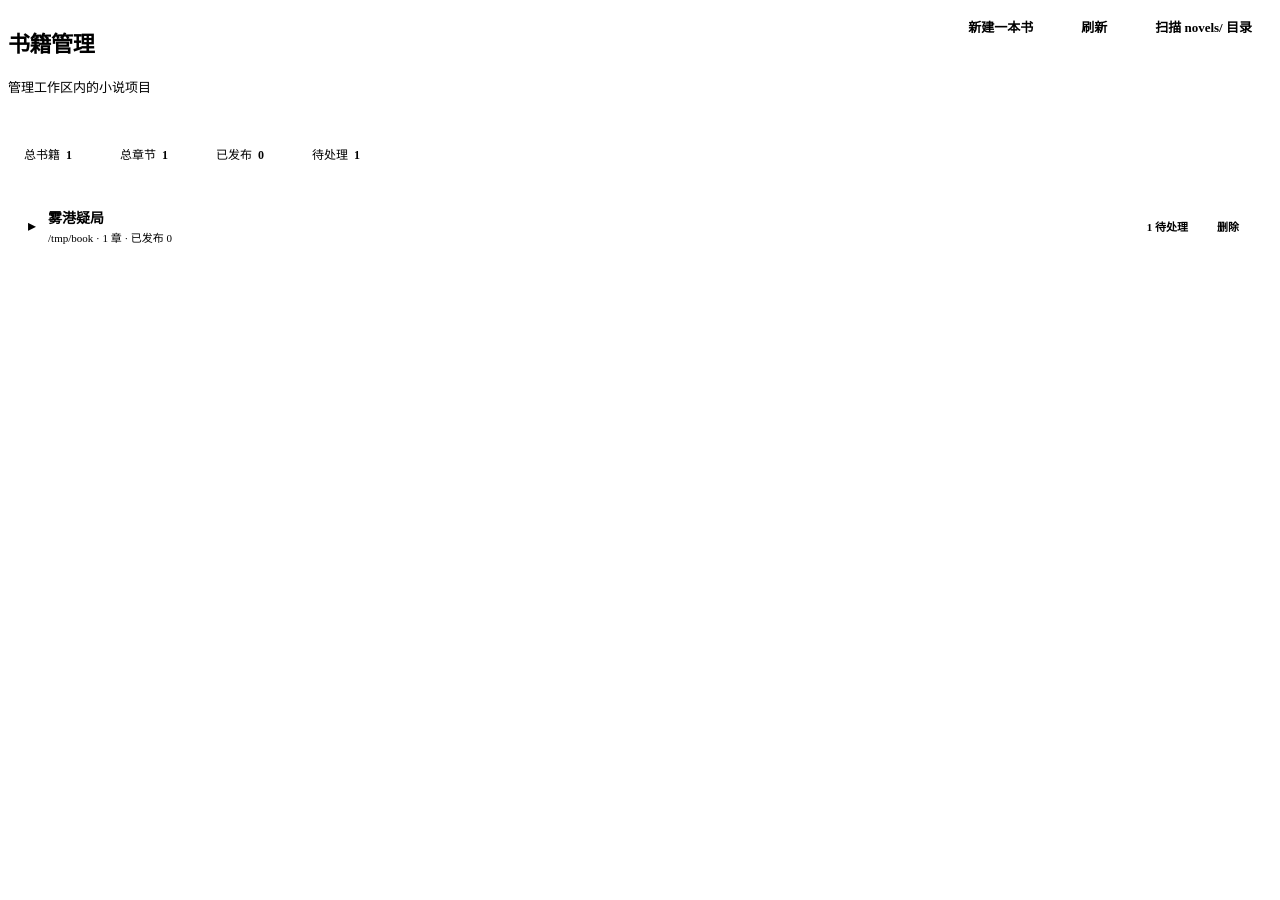
Test: BooksPage session model › shows a review checkpoint card for a waiting-review session
Step 1. Click the text "雾港疑局" → click(76, 218), box [48,210,104,226]
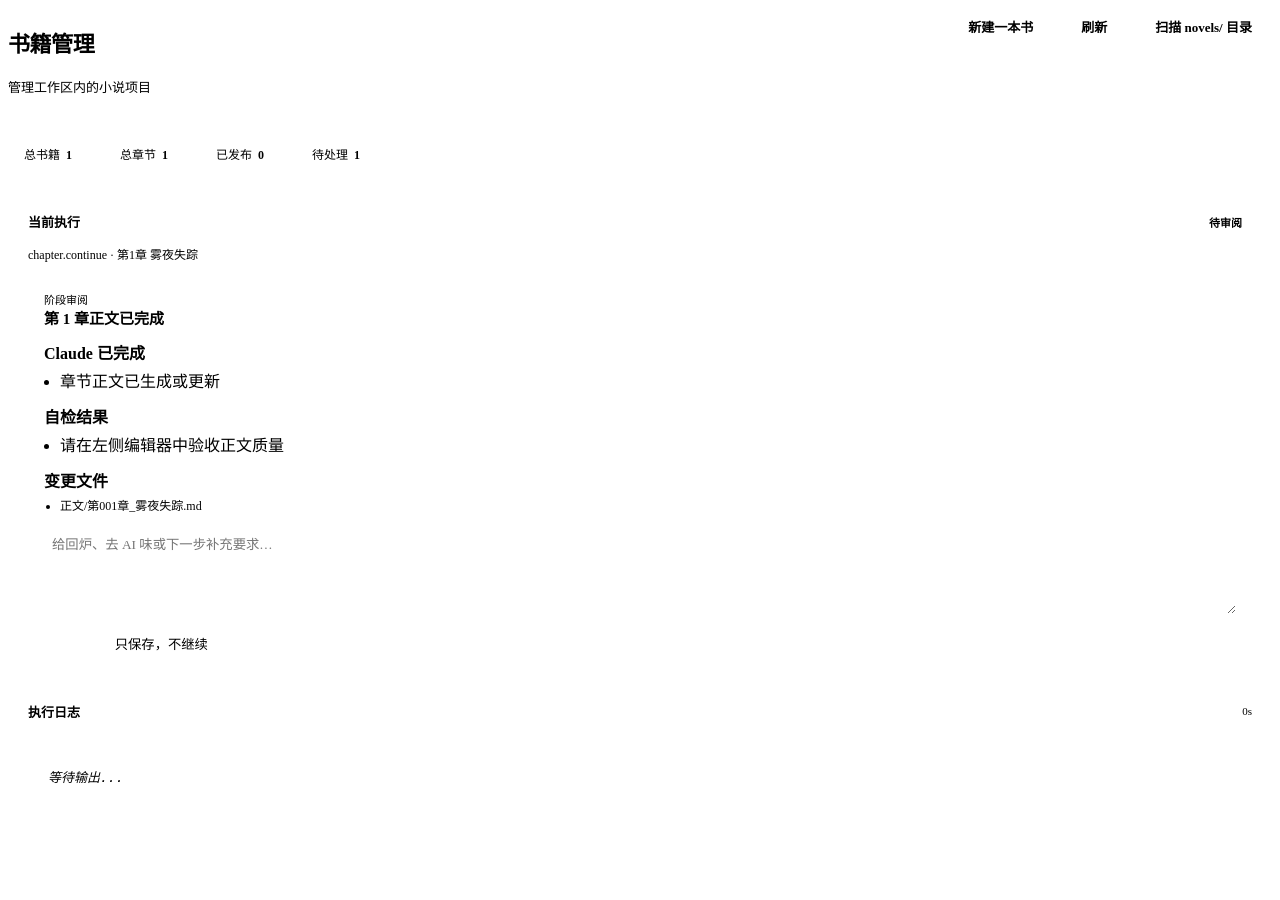
Now the text "阶段审阅" is shown, box [44,294,88,306]
Now the heading "第 1 章正文已完成" is shown, box [44,310,164,326]
